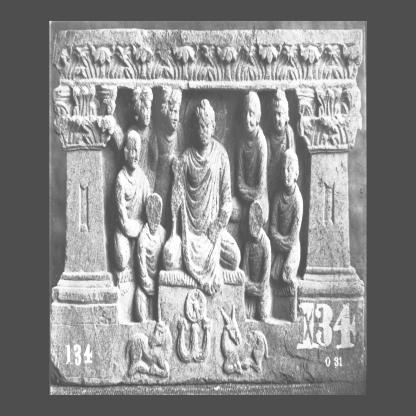buddha-sitting: (158, 100, 244, 332)
